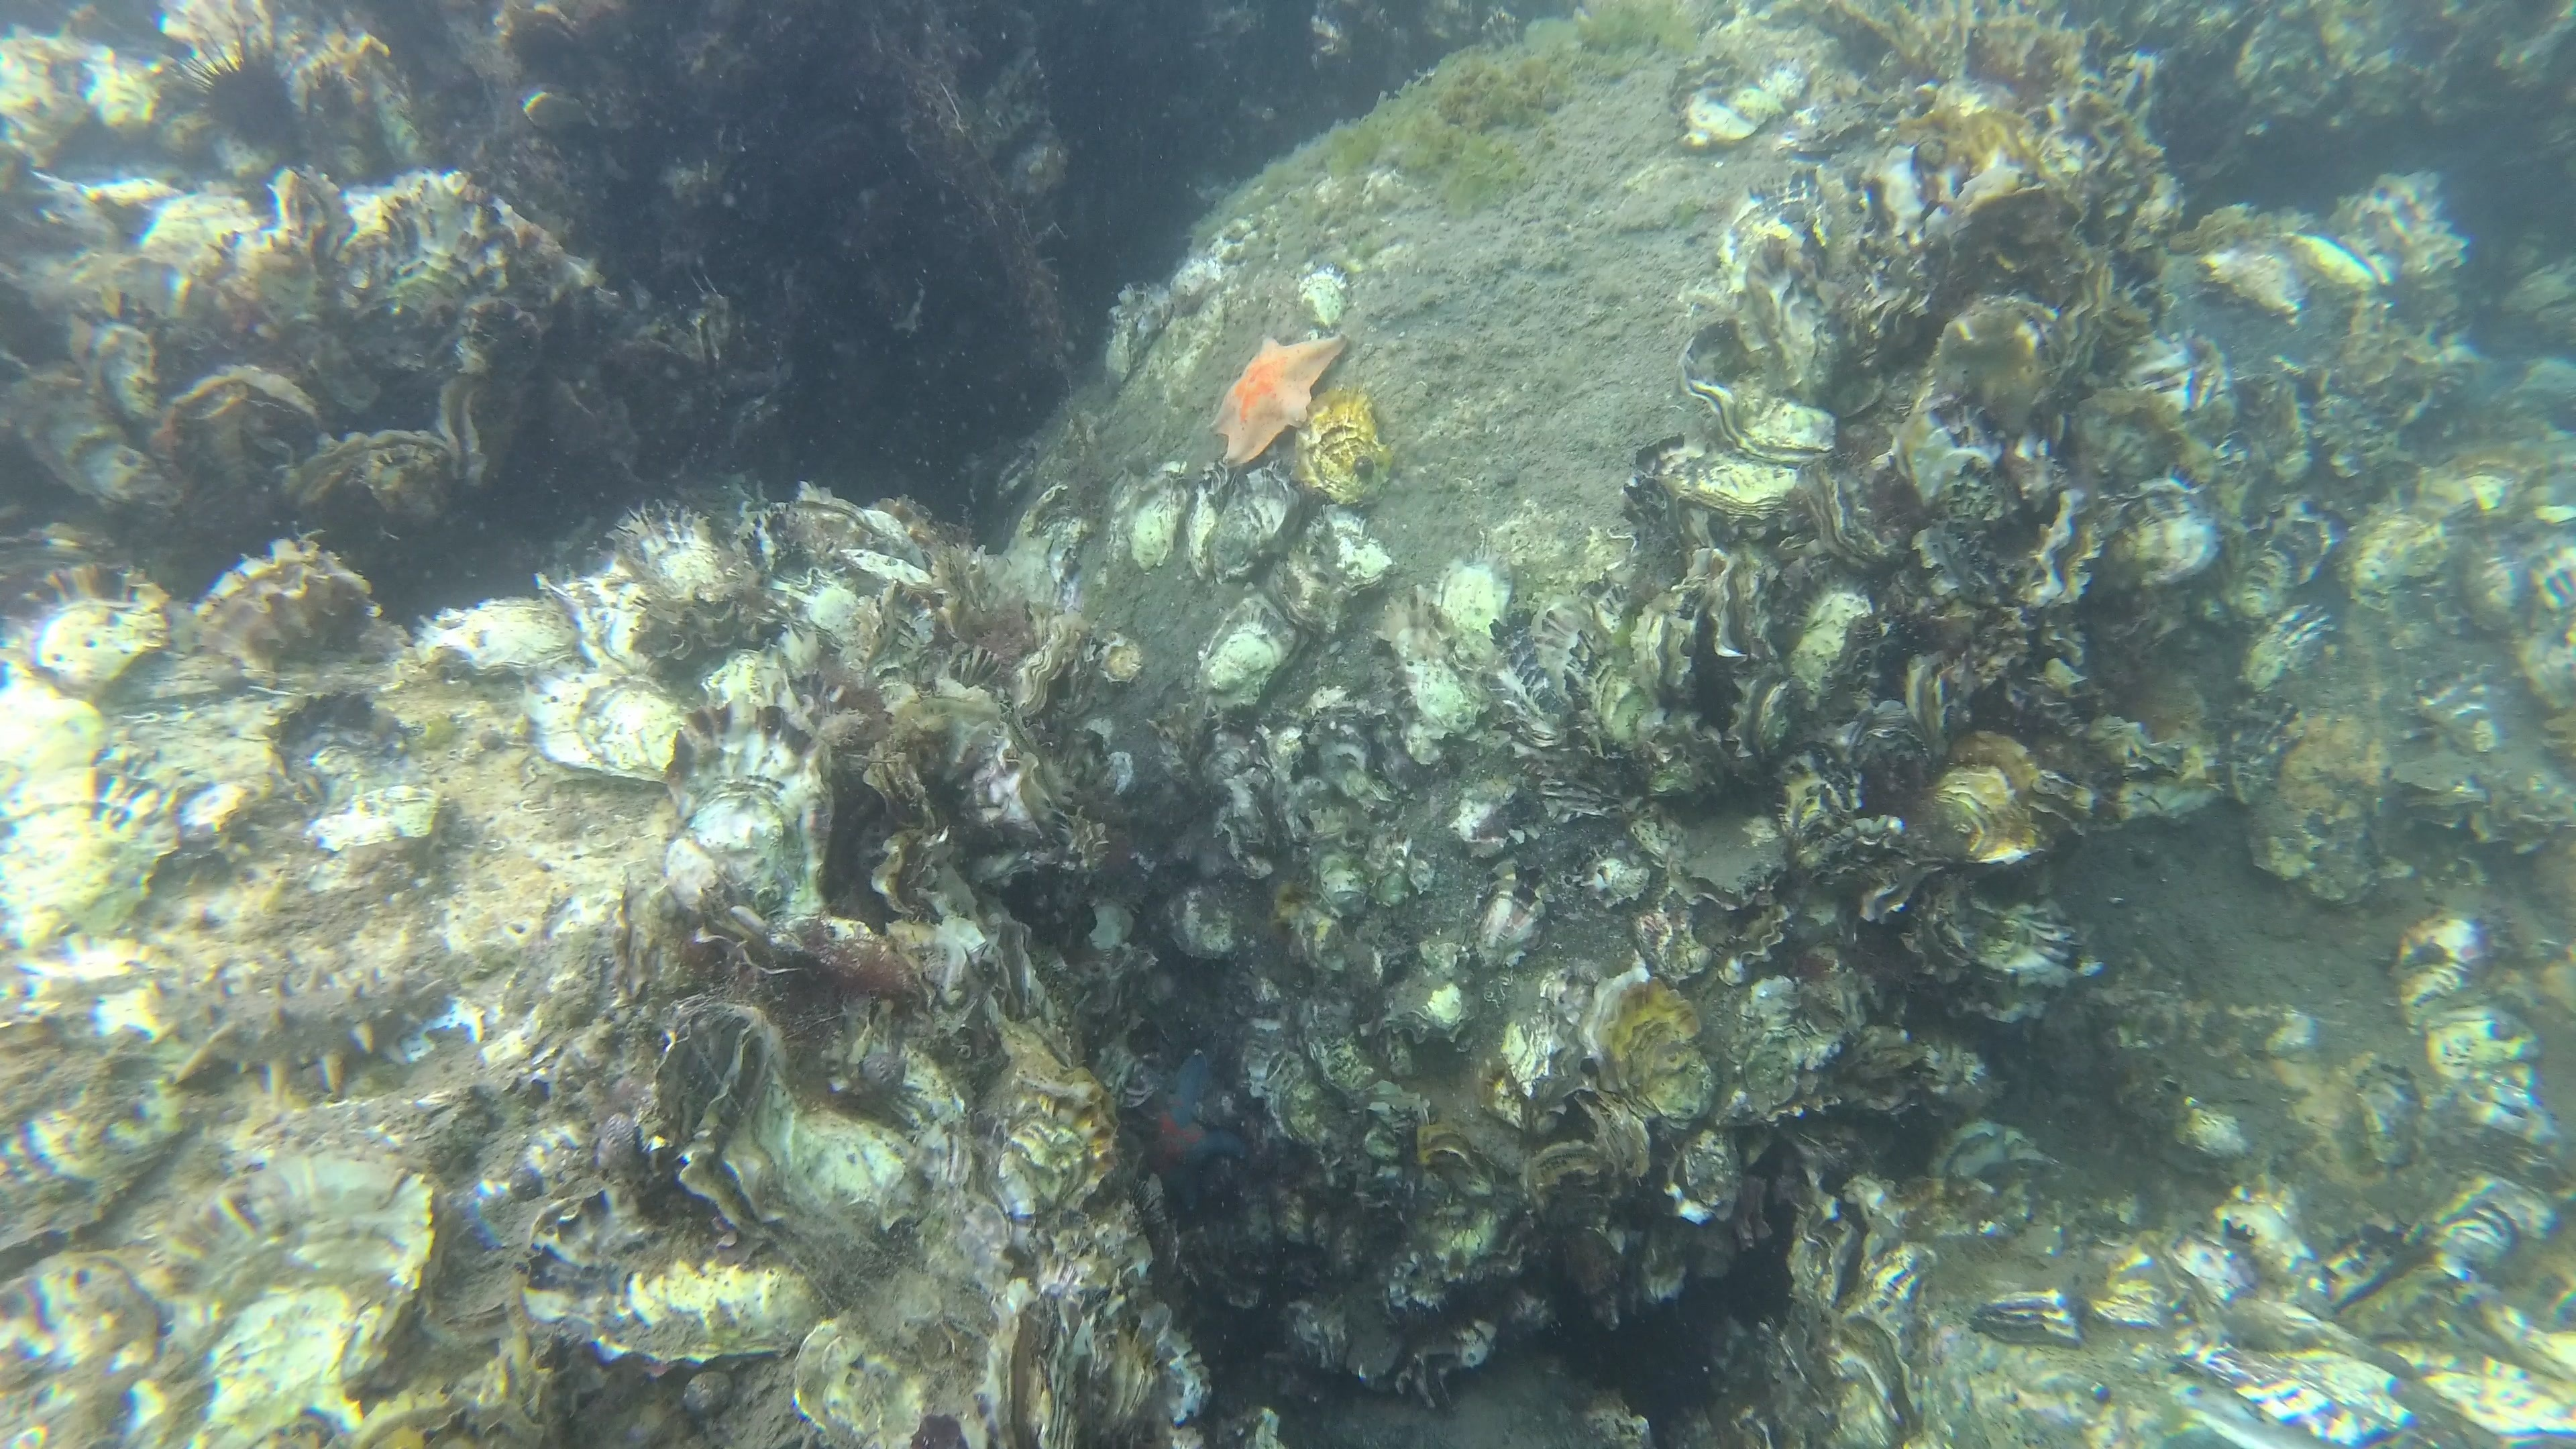echinus: (173, 32, 313, 156)
holothurian: (140, 957, 460, 1108)
starfish: (1201, 329, 1341, 471), (1138, 1044, 1240, 1217)
